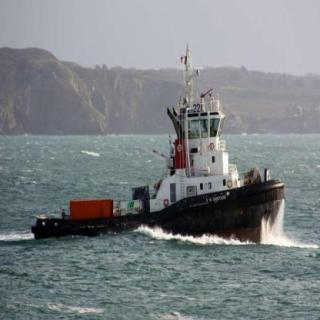Tug Boat: (31, 104, 290, 238)
